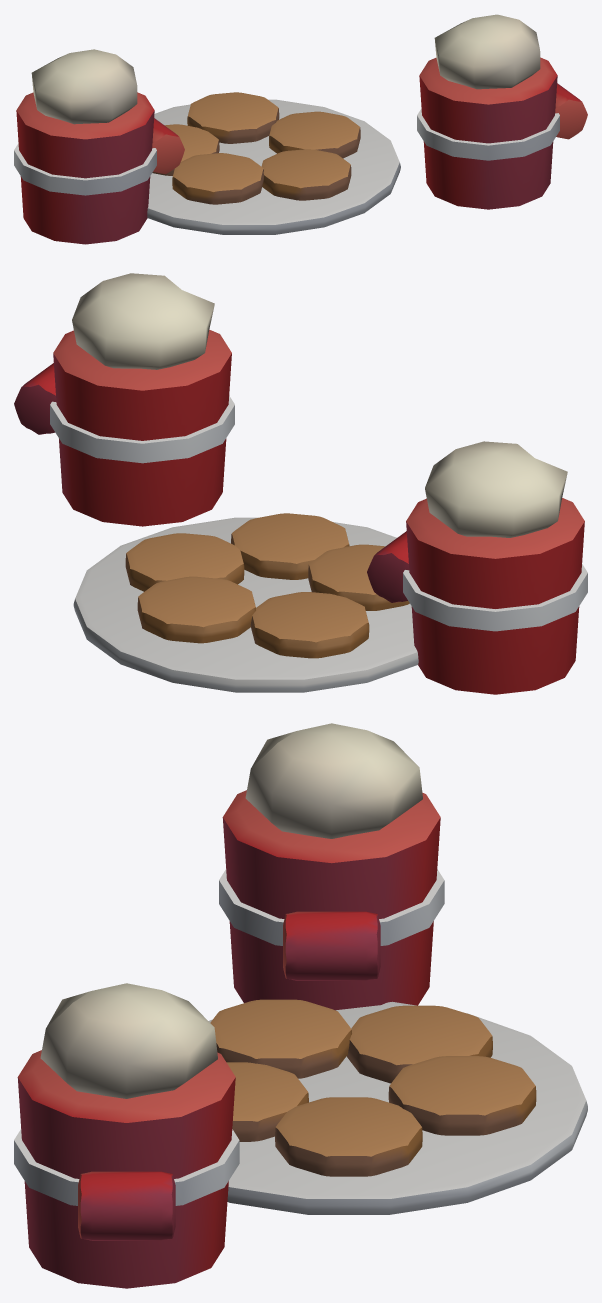
File: CocoaSet.fbx
The picture shows the model from 3 angles, top to bottom: view 1: azimuth 30°, elevation 25°; view 2: azimuth 150°, elevation 25°; view 3: azimuth 270°, elevation 25°; orthographic projection. The views are drawn at different scales.
Parts seen in each view (by area): view 1: SM_Xmas_CocoaSet; view 2: SM_Xmas_CocoaSet; view 3: SM_Xmas_CocoaSet.
Boxes of the visible parts, x1,y1,x2,y2 form: SM_Xmas_CocoaSet: [14, 14, 587, 244]; SM_Xmas_CocoaSet: [14, 273, 587, 694]; SM_Xmas_CocoaSet: [14, 723, 587, 1288].
Bounding box in the file's own units: 2.59 × 0.8179 × 1.68.
